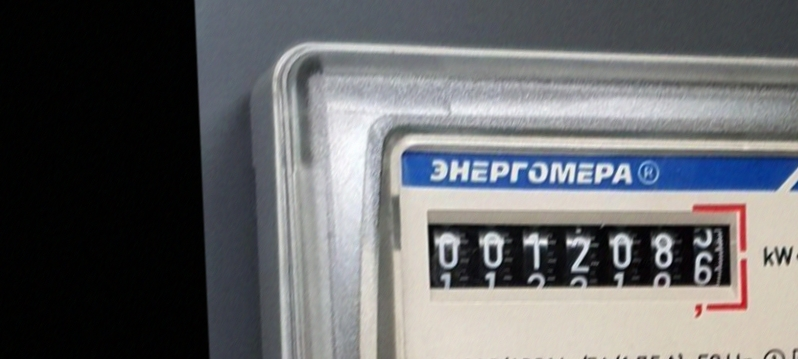0: (478, 227, 507, 270), (435, 227, 460, 270), (609, 230, 633, 269)
1: (523, 228, 546, 270)
2: (566, 233, 593, 273)
6: (689, 248, 714, 285)
8: (651, 229, 674, 270)
screen: (416, 182, 761, 335)
